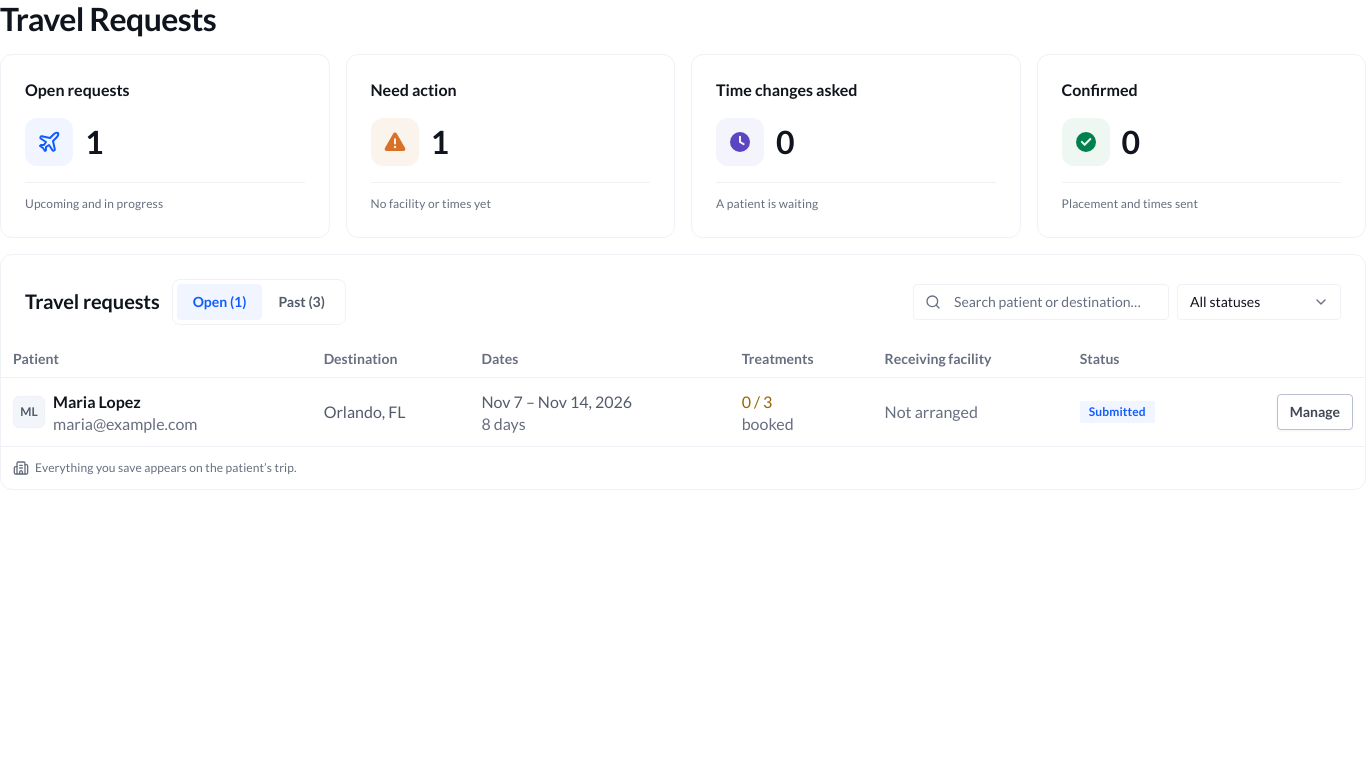
Test: Travel Requests › will not confirm a trip with no facility or treatment times
The image size is (1366, 768).
Click the button with aria-label "Manage Maria Lopez's trip" at (1315, 412), box [1277,394,1353,430]
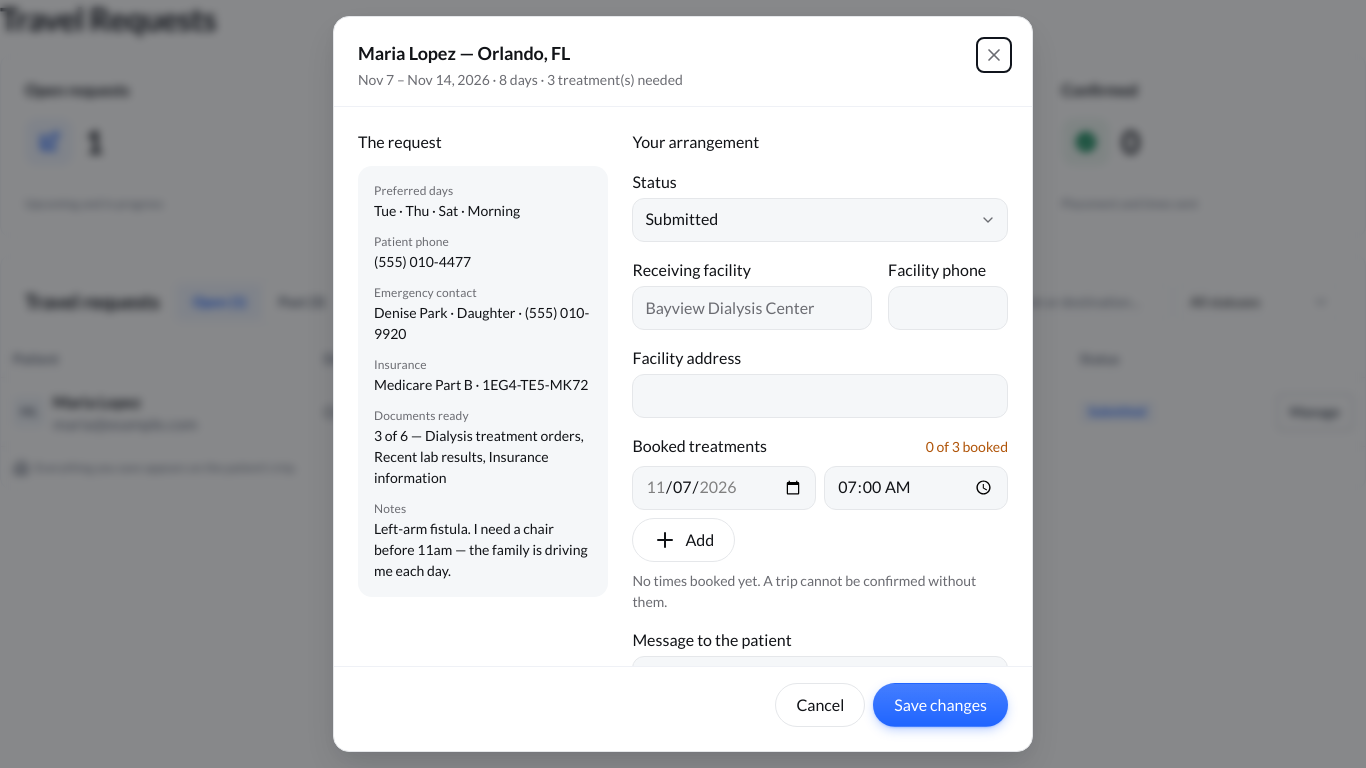
Select "Confirmed" in the dropdown labelled "Status" at (820, 220), box [632,198,1008,242]
(page scrolled)
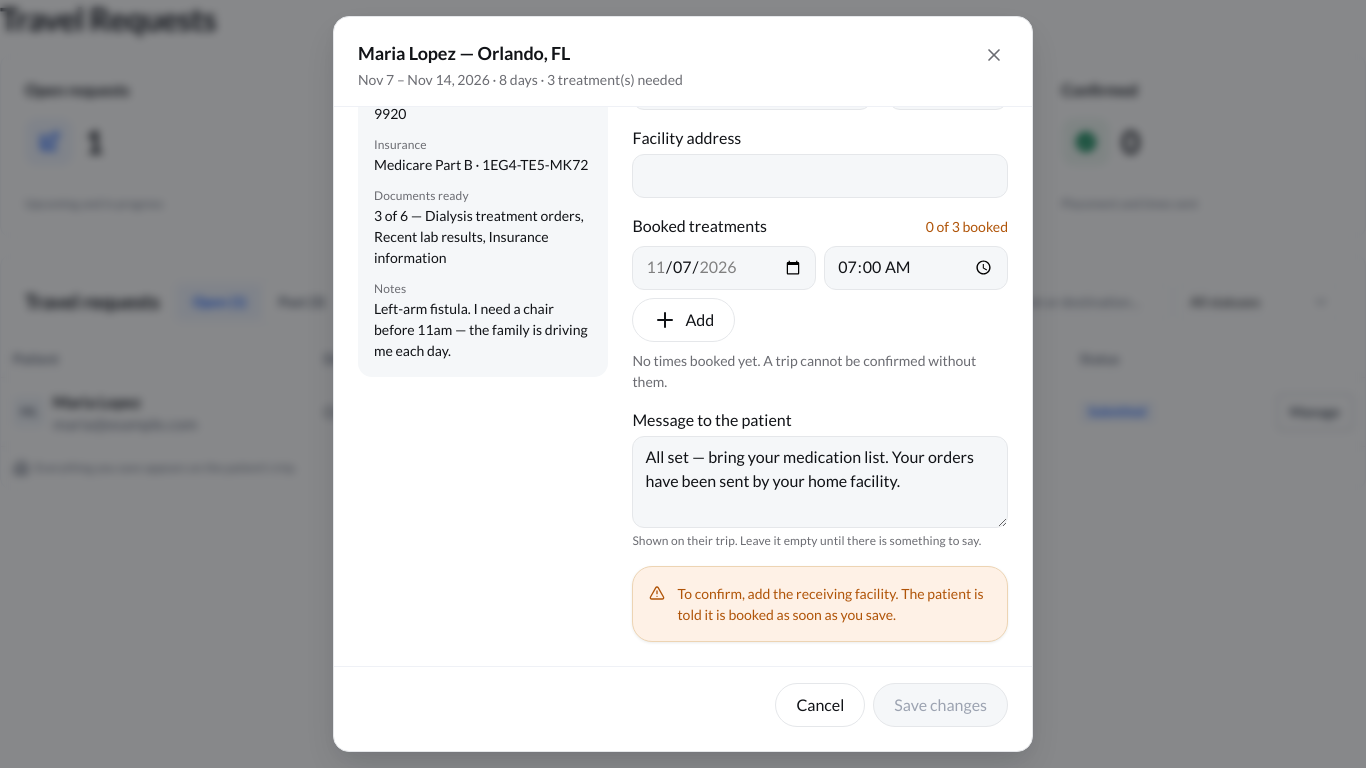
Result: the button "Save changes" is disabled at [873,683,1008,727]
Result: the text "To confirm, add" is shown at [677,585,770,602]
